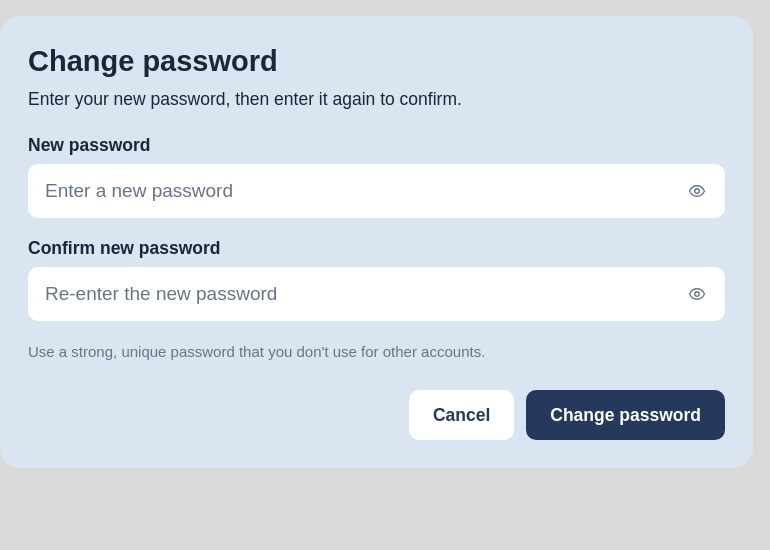
Test: Password validation › rejects mismatched passwords
The width and height of the screenshot is (770, 550).
Type "Password123!" into the password field labelled "New password". click: (376, 191)
box: [28,164,725,218]
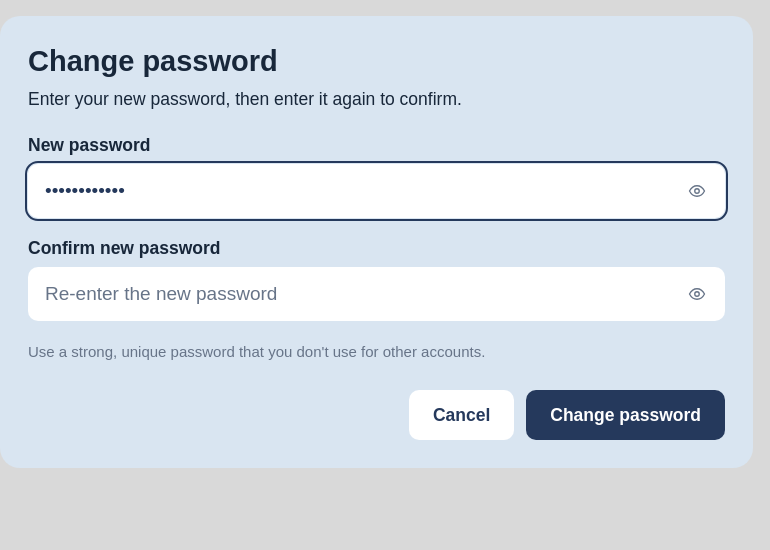
Type "Different123!" into the password field labelled "Confirm new password". click: (376, 294)
box: [28,267,725,321]
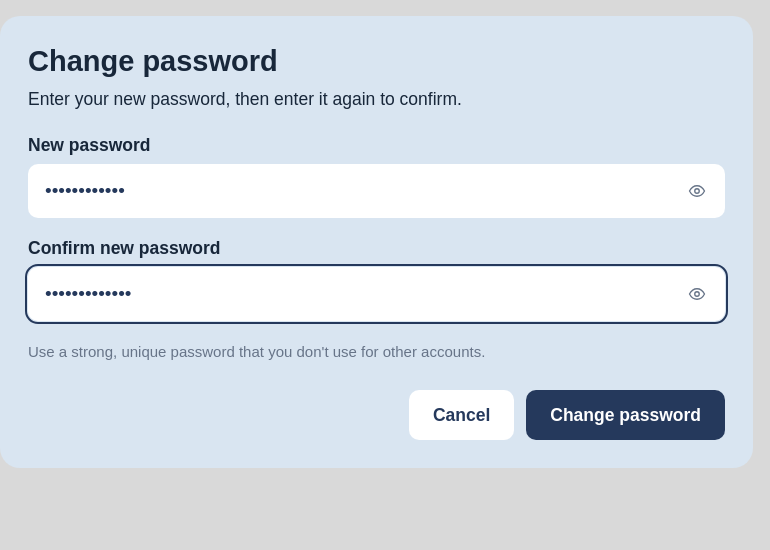
Click the button "Change password". click: (626, 415)
box: [526,390,725,440]
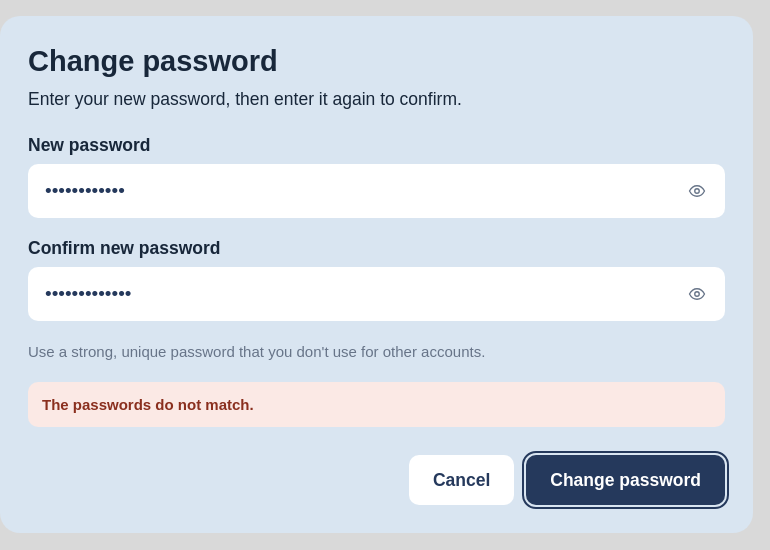
Expected: the message reads "The passwords do not match.", [42,396,254,413]
